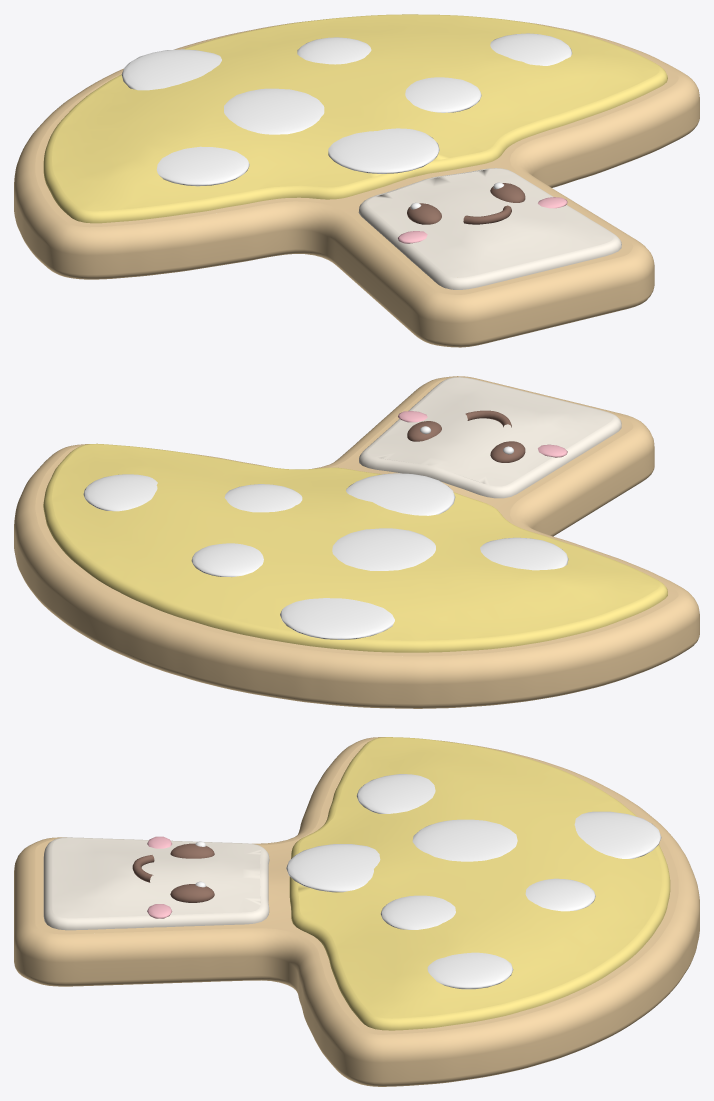
File: MushroomCookie.glb
3 views of the same model, one above another, from view 1: azimuth 30°, elevation 25°; view 2: azimuth 150°, elevation 25°; view 3: azimuth 270°, elevation 25° (orthographic).
Parts seen in each view (by area): view 1: Icing, Cookie, Dots, Icing2, Face, Cheeks; view 2: Icing, Cookie, Dots, Icing2, Face, Cheeks; view 3: Icing, Cookie, Dots, Icing2, Face, Cheeks.
Part boxes in pixels (bbox=[...]): Icing: bbox=[43, 14, 667, 223]; Cookie: bbox=[14, 19, 699, 347]; Dots: bbox=[121, 33, 572, 186]; Icing2: bbox=[358, 168, 621, 289]; Face: bbox=[407, 183, 525, 224]; Cheeks: bbox=[397, 197, 567, 243]; Icing: bbox=[43, 443, 667, 652]; Cookie: bbox=[14, 376, 699, 708]; Dots: bbox=[83, 473, 568, 639]; Icing2: bbox=[359, 377, 621, 498]; Face: bbox=[407, 410, 525, 462]; Cheeks: bbox=[398, 411, 567, 457]; Icing: bbox=[289, 737, 670, 1030]; Cookie: bbox=[14, 737, 699, 1086]; Dots: bbox=[286, 774, 661, 989]; Icing2: bbox=[43, 837, 269, 930]; Face: bbox=[132, 843, 214, 902]; Cheeks: bbox=[147, 836, 172, 918].
Bounding box in the file's own units: 10.49 × 1.09 × 9.7.
